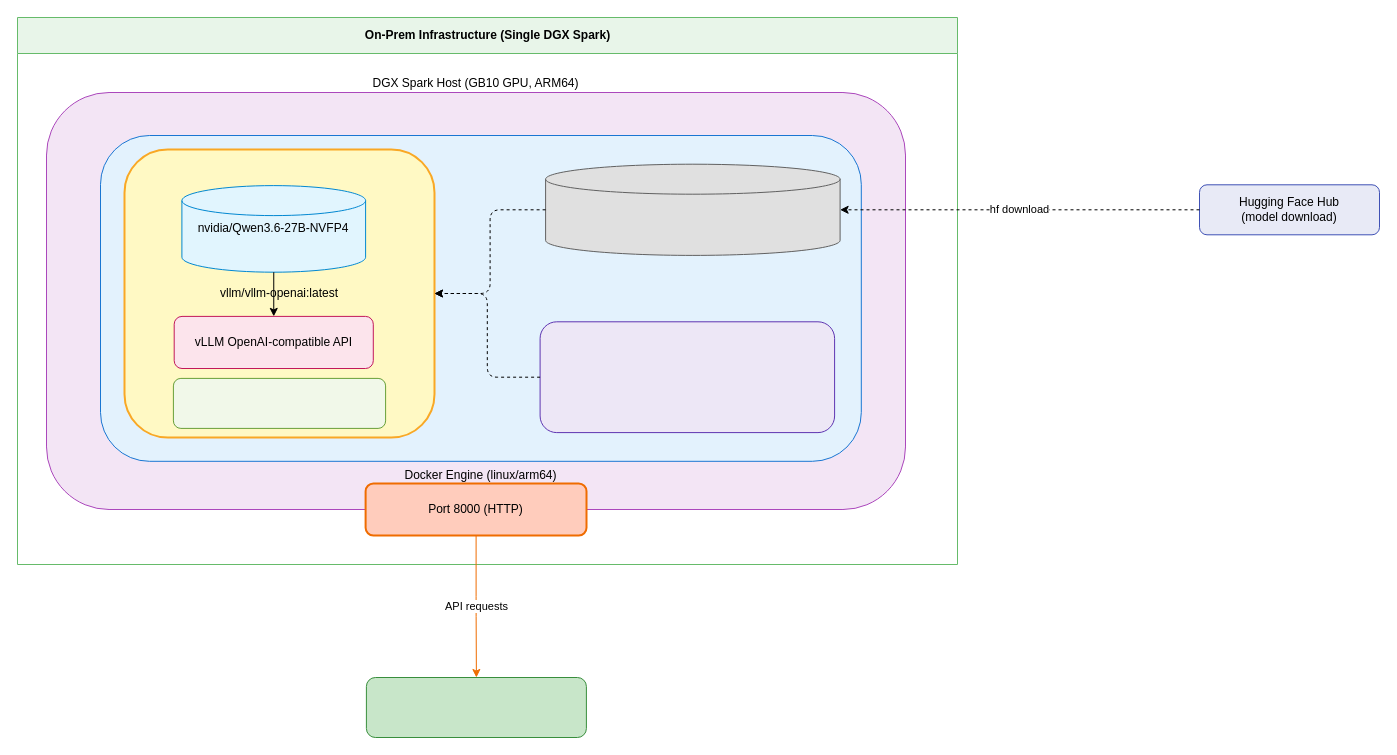
This 1397x755 diagram has some shape labels left out. Here are the shapes that lost their labels. From the top down, the centre of each, then its label:
the point at 692,209: Volume Mount ~/.cache/huggingface/hub
the point at 687,377: Runtime Config max-model-len: 131,072 gpu-memory-util: 0.8 auto-tool-choice: on
the point at 279,402: Parsers: qwen3_coder (tool) qwen3 (reasoning)
the point at 475,707: Client Applications (OpenAI-compatible API)
